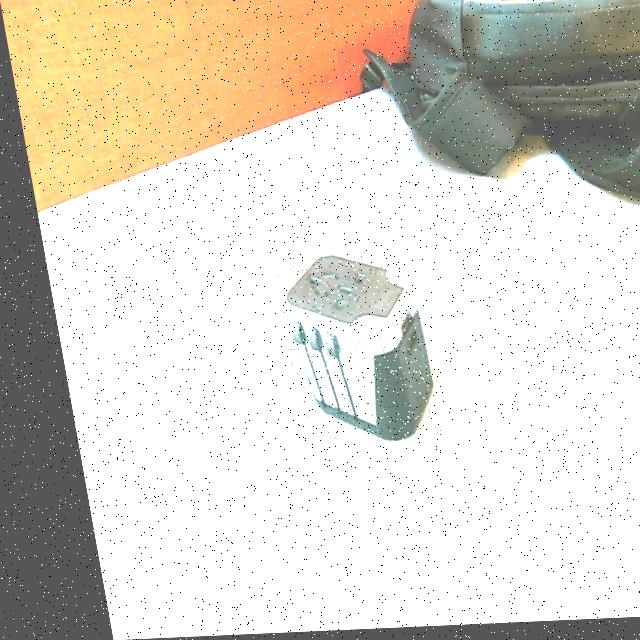adapter: (263, 250, 426, 446)
